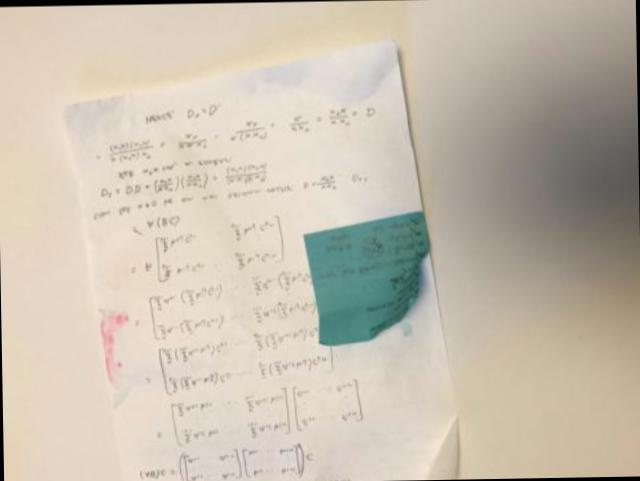cardboard paper: (65, 42, 453, 481)
